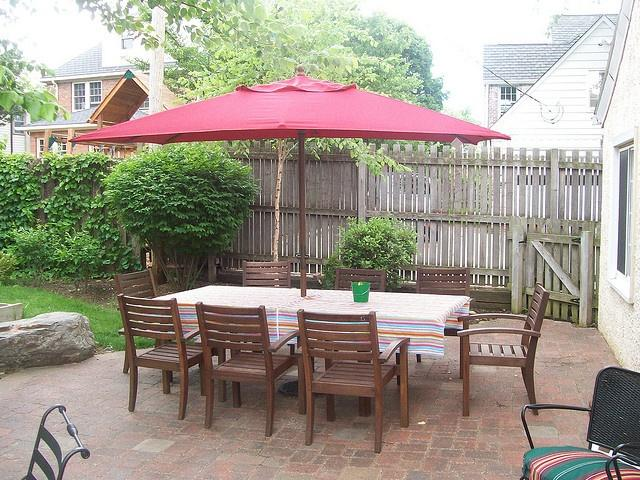Kursi: (297, 308, 409, 453), (193, 301, 304, 438), (518, 365, 639, 479), (455, 281, 549, 417), (118, 294, 206, 418)
